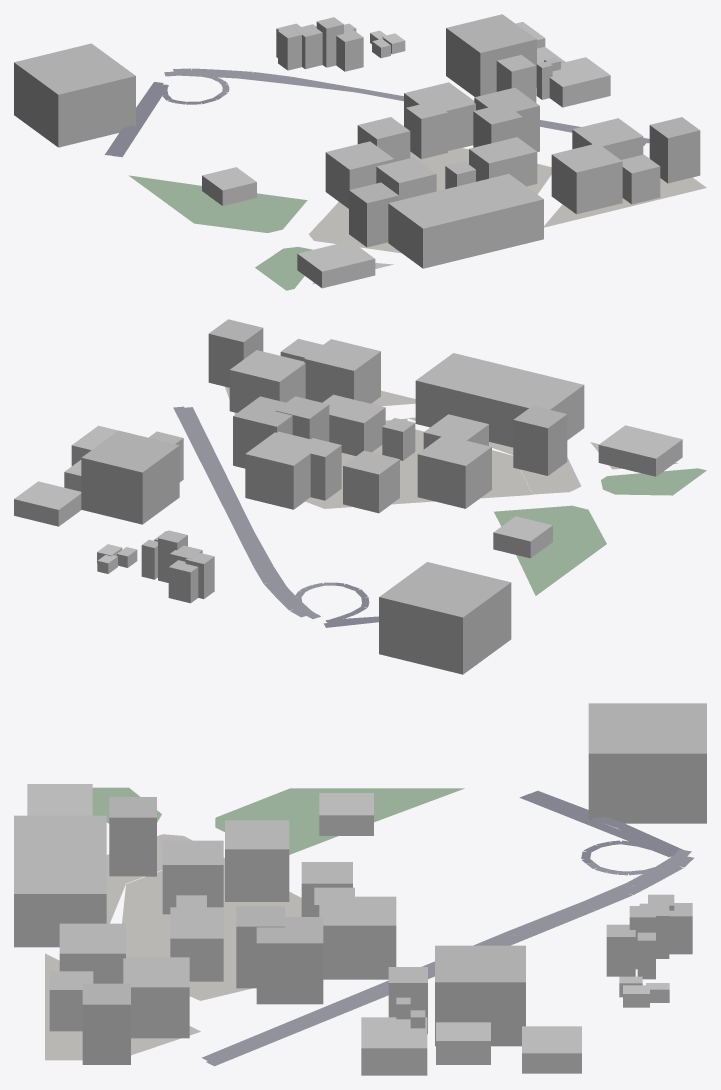
Rendered from 131_106_mid.glb.
The picture shows the model from 3 angles, top to bottom: view 1: azimuth 30°, elevation 25°; view 2: azimuth 150°, elevation 25°; view 3: azimuth 270°, elevation 25°; orthographic projection. The views are drawn at different scales.
Size of the model in its own units: 555 by 60.93 by 536.
